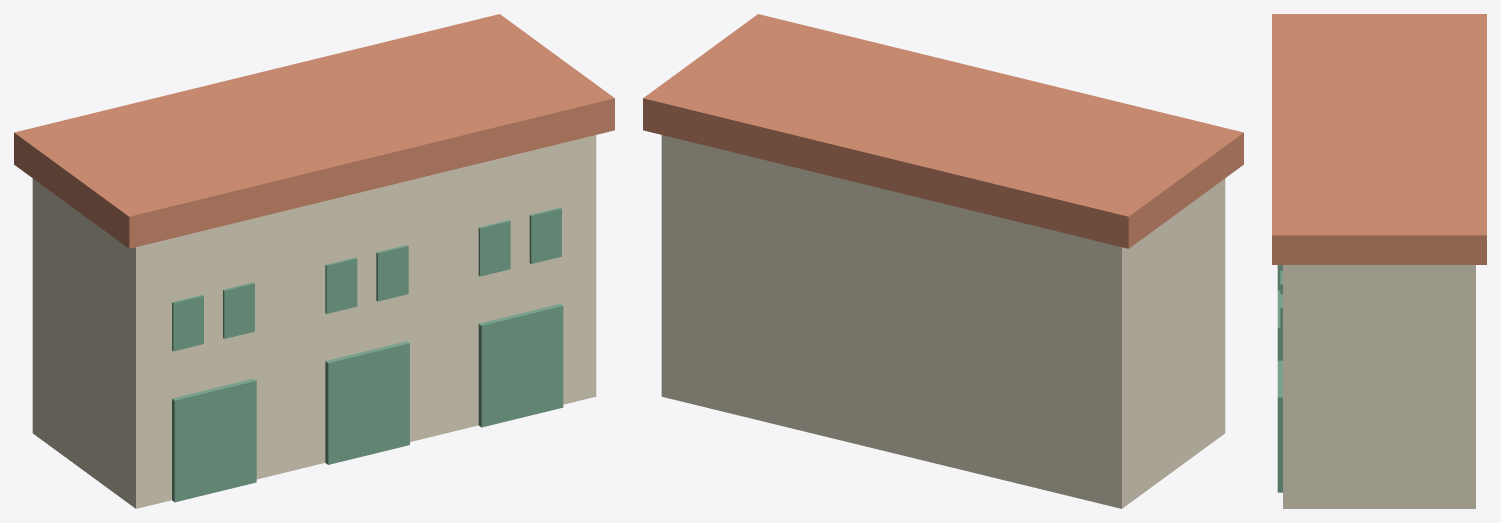
Rendered from street_row.glb.
3 views of the same model, side by side, from view 1: azimuth 30°, elevation 25°; view 2: azimuth 150°, elevation 25°; view 3: azimuth 270°, elevation 25° (orthographic). The views are drawn at different scales.
Parts seen in each view (by area): view 1: MainBlock_Node, RoofGable_Node, ShopArch_2_Node, ShopArch_0_Node, ShopArch_1_Node, WindowL_1_Node, WindowL_2_Node, WindowR_2_Node, WindowR_1_Node, WindowR_0_Node, WindowL_0_Node; view 2: MainBlock_Node, RoofGable_Node; view 3: RoofGable_Node, MainBlock_Node, ShopArch_2_Node, ShopArch_1_Node.
Boxes of the visible parts, x1,y1,x2,y2 form: MainBlock_Node: (32, 135, 596, 508); RoofGable_Node: (14, 14, 614, 248); ShopArch_2_Node: (478, 304, 563, 427); ShopArch_0_Node: (172, 378, 256, 502); ShopArch_1_Node: (325, 341, 409, 464); WindowL_1_Node: (325, 257, 357, 313); WindowL_2_Node: (478, 220, 510, 276); WindowR_2_Node: (529, 207, 561, 263); WindowR_1_Node: (376, 245, 408, 301); WindowR_0_Node: (223, 282, 254, 338); WindowL_0_Node: (172, 295, 203, 351); MainBlock_Node: (661, 135, 1225, 508); RoofGable_Node: (643, 14, 1243, 248); RoofGable_Node: (1272, 14, 1486, 264); MainBlock_Node: (1283, 265, 1475, 508); ShopArch_2_Node: (1277, 360, 1282, 492); ShopArch_1_Node: (1277, 290, 1282, 360).
Bounding box in the file's own units: 19 × 11.2 × 7.8.
